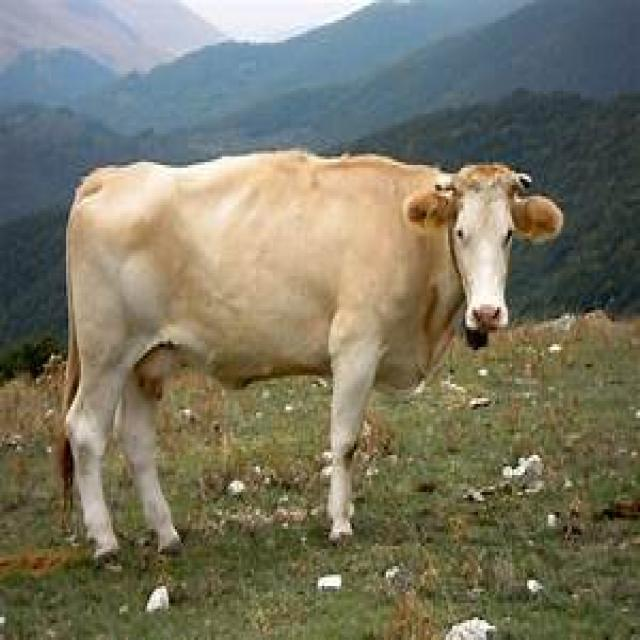cow: (51, 145, 563, 563)
